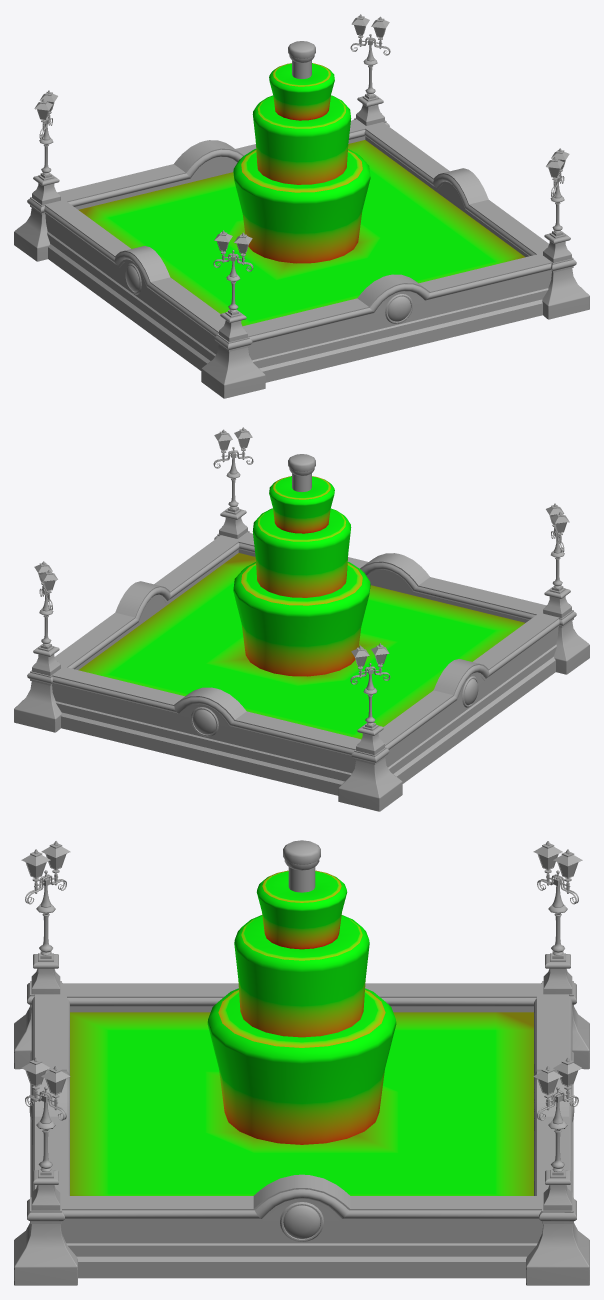
The model's file is cP_WaterFountain01.fbx.
3 views of the same model, one above another, from view 1: azimuth 30°, elevation 25°; view 2: azimuth 150°, elevation 25°; view 3: azimuth 270°, elevation 25° (orthographic). The views are drawn at different scales.
Parts seen in each view (by area): view 1: cP_WaterFountainContainer, waterPool_mesh, fountainRunningWater_mesh, cP_WaterFountainLight, cP_WaterFountain; view 2: cP_WaterFountainContainer, waterPool_mesh, fountainRunningWater_mesh, cP_WaterFountainLight, cP_WaterFountain; view 3: cP_WaterFountainContainer, waterPool_mesh, fountainRunningWater_mesh, cP_WaterFountainLight, cP_WaterFountain.
Part boxes in pixels (x1=…): cP_WaterFountainContainer: x1=14, y1=93, x2=589, y2=398; waterPool_mesh: x1=79, y1=140, x2=525, y2=326; fountainRunningWater_mesh: x1=233, y1=63, x2=370, y2=263; cP_WaterFountainLight: x1=34, y1=14, x2=569, y2=312; cP_WaterFountain: x1=288, y1=41, x2=315, y2=78; cP_WaterFountainContainer: x1=14, y1=506, x2=589, y2=811; waterPool_mesh: x1=78, y1=553, x2=524, y2=739; fountainRunningWater_mesh: x1=233, y1=476, x2=370, y2=676; cP_WaterFountainLight: x1=34, y1=427, x2=569, y2=725; cP_WaterFountain: x1=288, y1=454, x2=315, y2=491; cP_WaterFountainContainer: x1=14, y1=951, x2=589, y2=1285; waterPool_mesh: x1=70, y1=1012, x2=533, y2=1195; fountainRunningWater_mesh: x1=207, y1=870, x2=396, y2=1144; cP_WaterFountainLight: x1=21, y1=841, x2=582, y2=1171; cP_WaterFountain: x1=283, y1=840, x2=320, y2=892.
Bounding box in the file's own units: 760 × 518 × 757.
